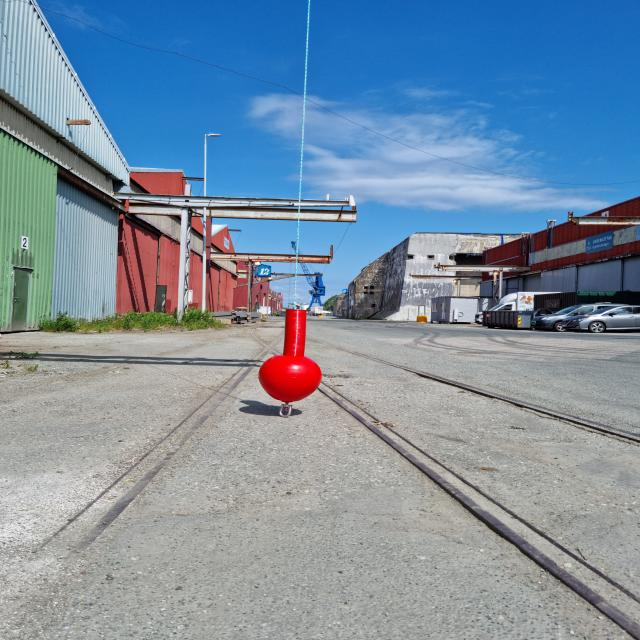red: (257, 308, 323, 402)
